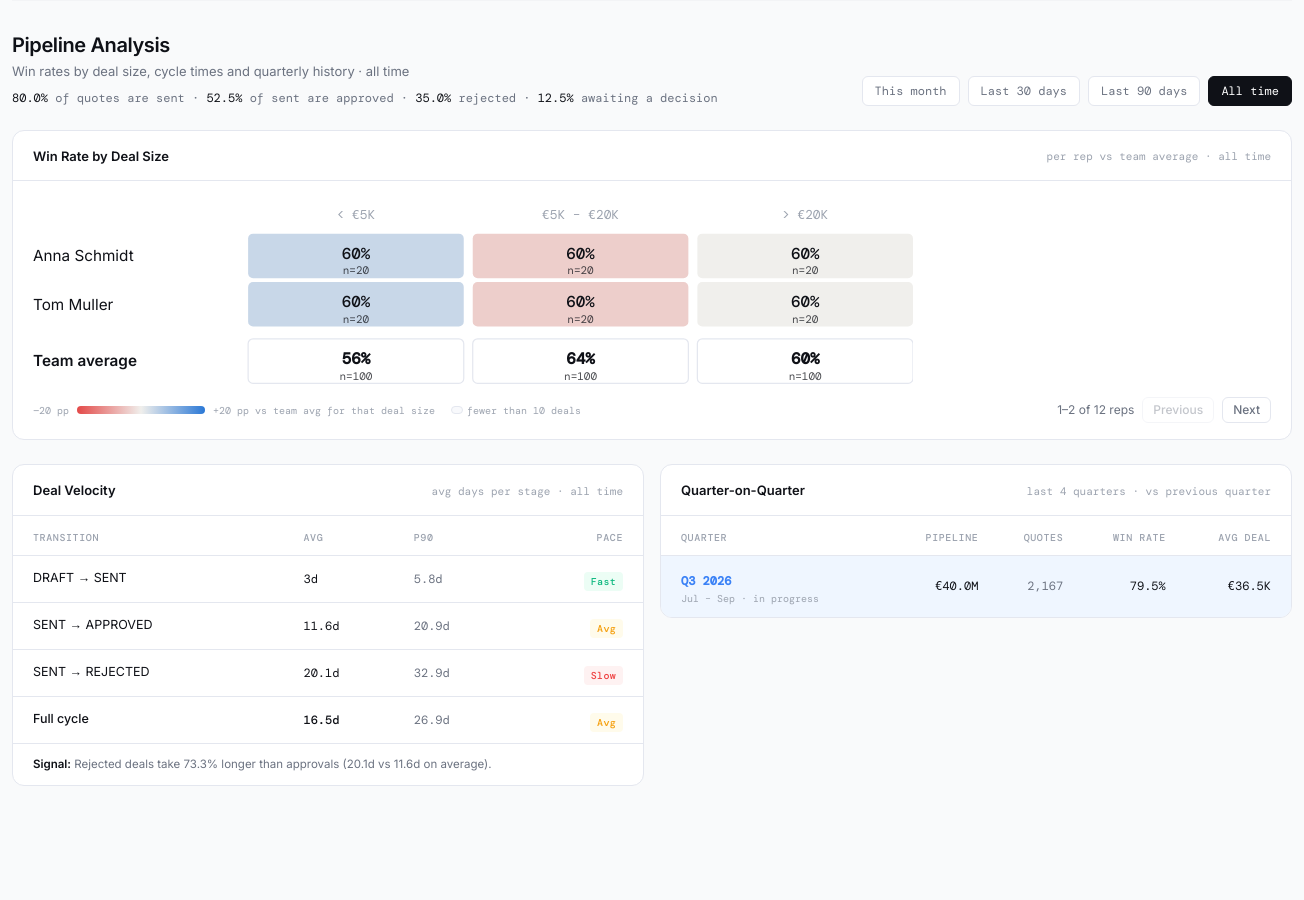
Test case: PipelineAnalysis › pages the heatmap without refetching the other panels
Step 1. Click the button "Next" → x=1247, y=410, box [1222,397,1271,423]
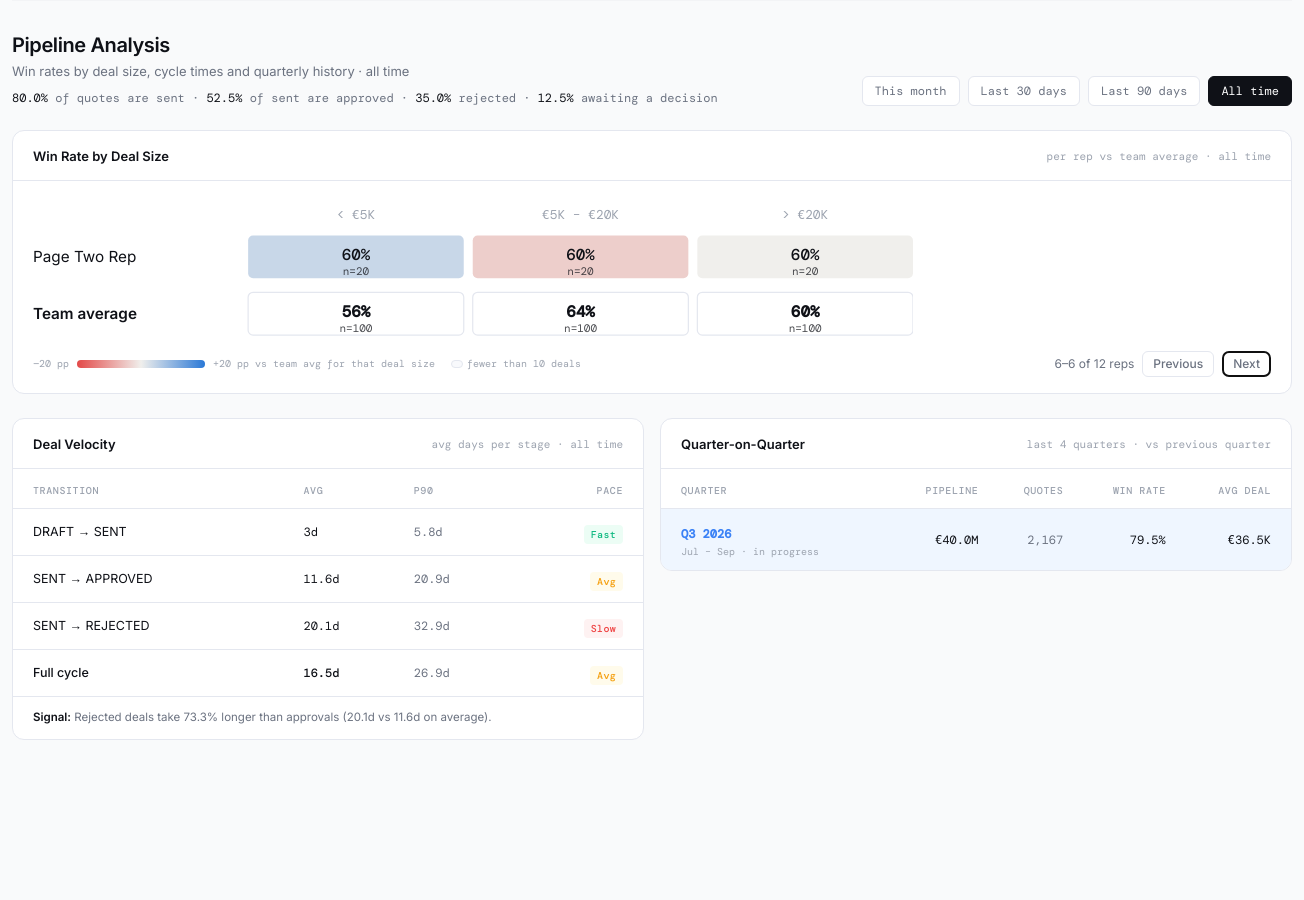
Expected: the text "11.6d" is shown, [292,556,402,603]
Result: the text "6–6 of 12 reps" is shown at [1054,356,1134,372]
